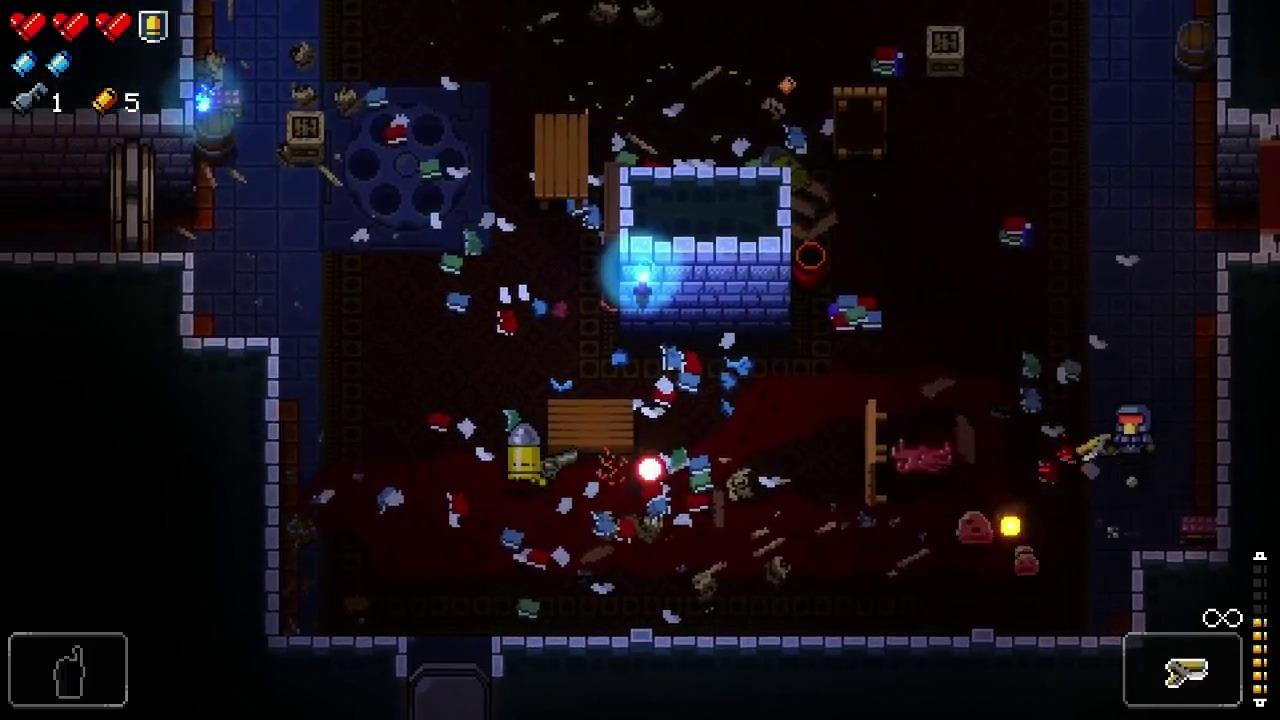blobulin_s: (1015, 555, 1040, 577)
blobuloid_m: (957, 511, 995, 546)
bullet: (635, 454, 666, 486)
bullet_kin: (506, 422, 543, 484)
locked_door: (110, 139, 153, 252), (409, 663, 491, 720)
player: (1115, 405, 1155, 462)
table: (549, 399, 636, 460), (535, 115, 589, 211), (834, 85, 889, 163), (864, 400, 889, 508)
teleporter: (322, 80, 493, 250)
wall: (619, 166, 793, 337)
